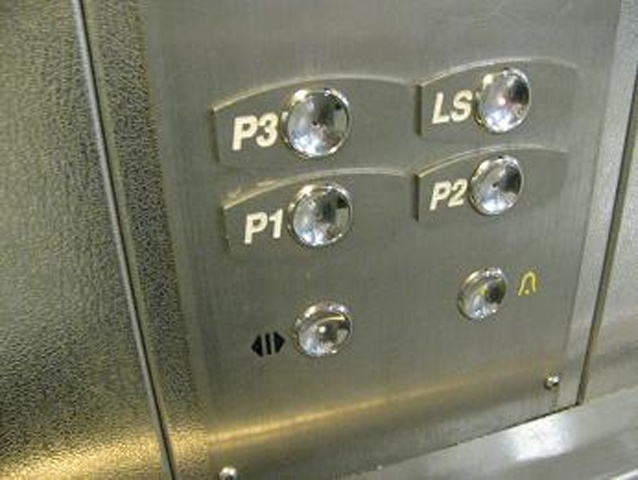LS: (415, 55, 583, 143)
P1: (219, 166, 414, 263)
P2: (411, 142, 576, 226)
P3: (204, 72, 415, 159)
alarm: (450, 257, 555, 327)
open: (227, 292, 357, 377)
